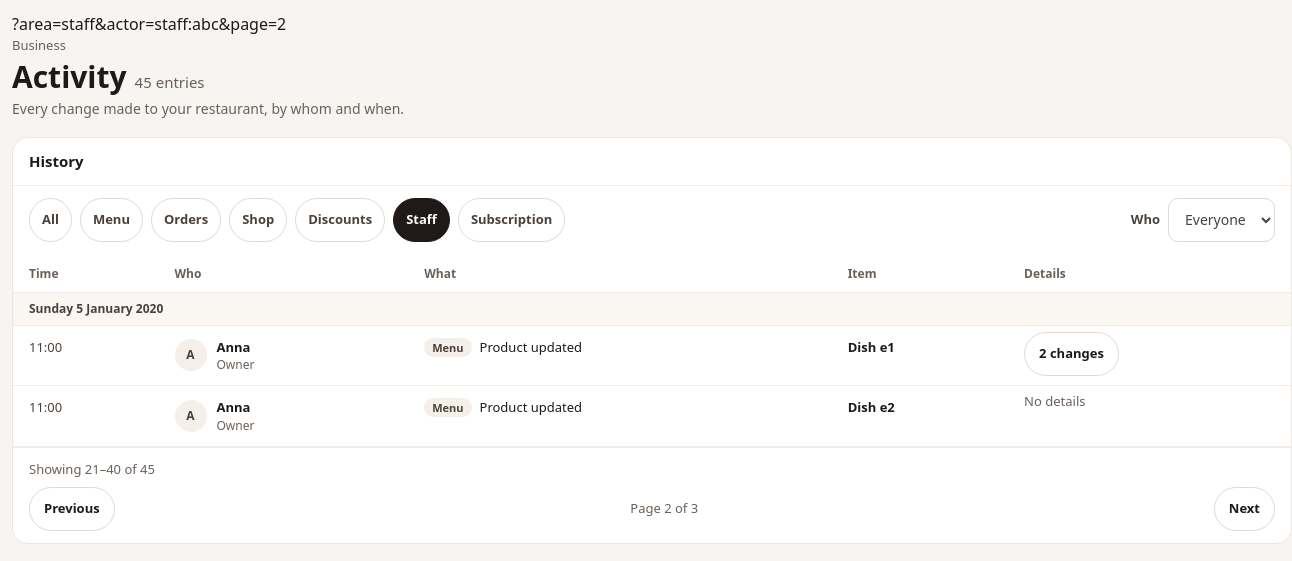
it: ActivityPage › restores filters and page from the URL, and the pager writes page
The width and height of the screenshot is (1292, 561).
Click the button "Next". click: (1244, 509)
box: [1214,487,1275,531]
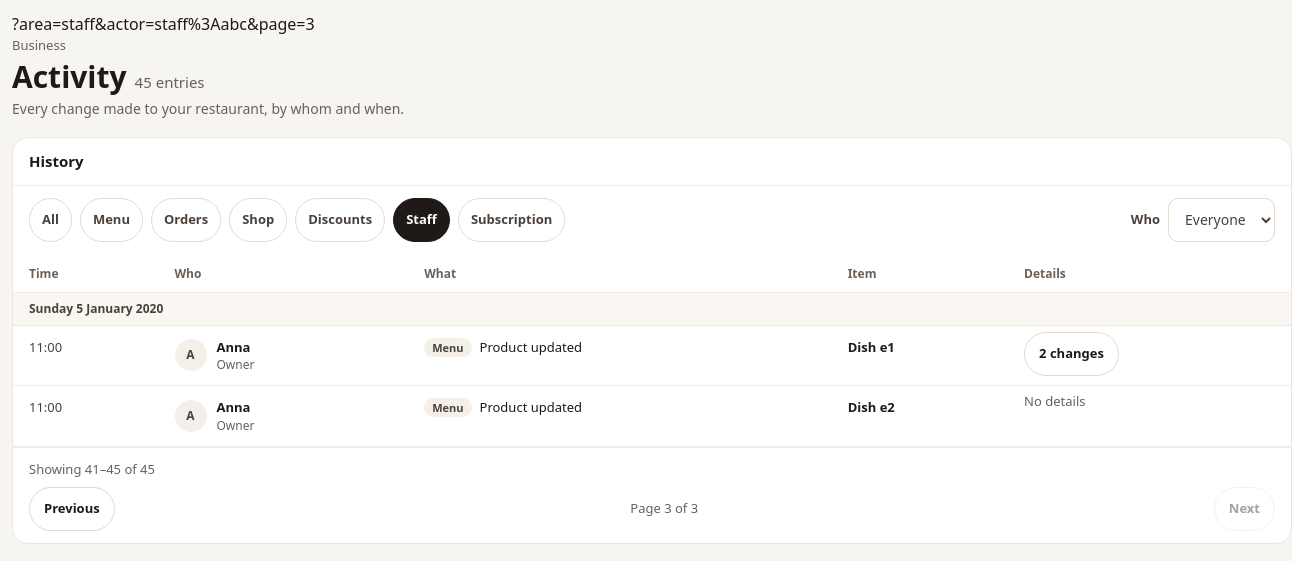
Expected: the text with test id "loc" shows "area=staff", [12,13,315,35]
Now the text with test id "loc" shows "page=3", box [12,13,315,35]
